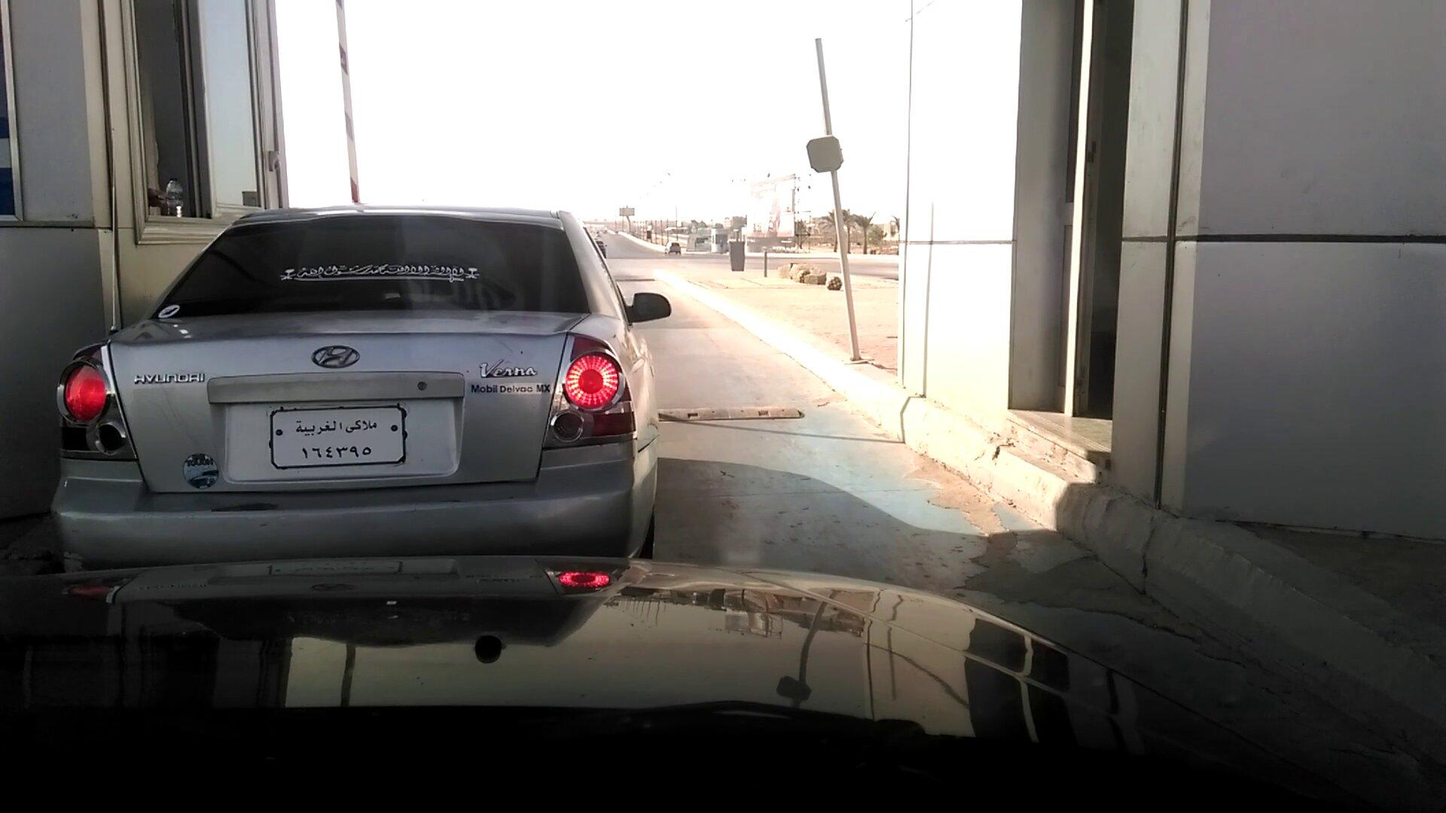Bump: (667, 401, 817, 438)
